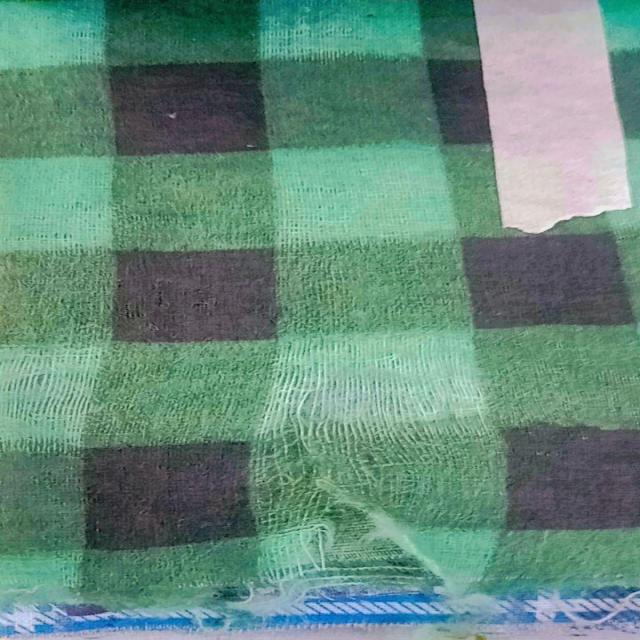cut: (223, 364, 453, 616)
